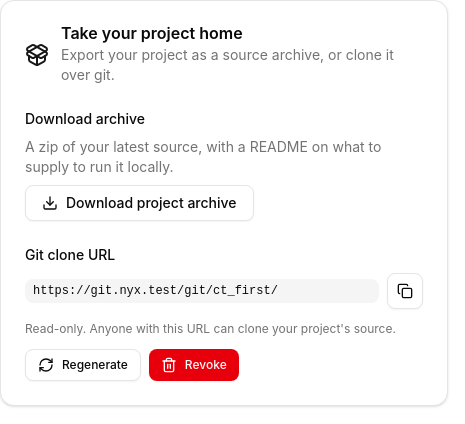
Test: HandoffPanel — clone URL management › Regenerate replaces the token (FR-075)
Expected: the text with test id "handoff-clone-url" reads "https://git.nyx.test/git/ct_first/", [33, 284, 278, 298]
Step 1. Click the button with test id "handoff-clone-regenerate" → (83, 365), box [25, 349, 141, 381]
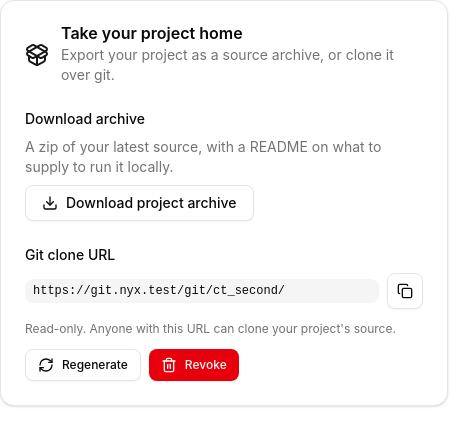
Result: the text with test id "handoff-clone-url" reads "https://git.nyx.test/git/ct_second/" at [33, 284, 285, 298]
